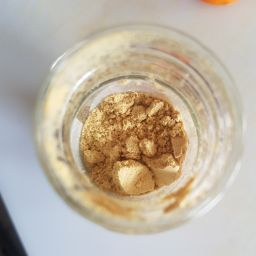Ginger powder: (72, 92, 199, 192), (87, 91, 199, 194), (107, 115, 170, 177)
